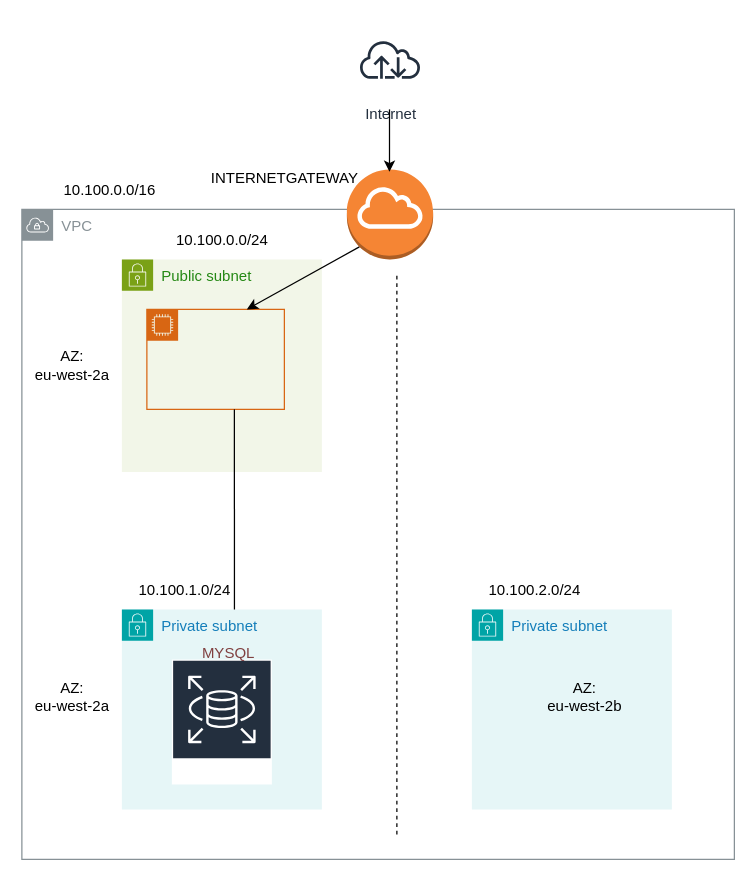
The diagram is 756 pixels wide and 881 high, and some of its shapes have lost their labels. Each missing label, with the centre of its shape:
"Amazon RDS" belongs at (x=221, y=721).
"EC2 instance contents" belongs at (x=215, y=358).
